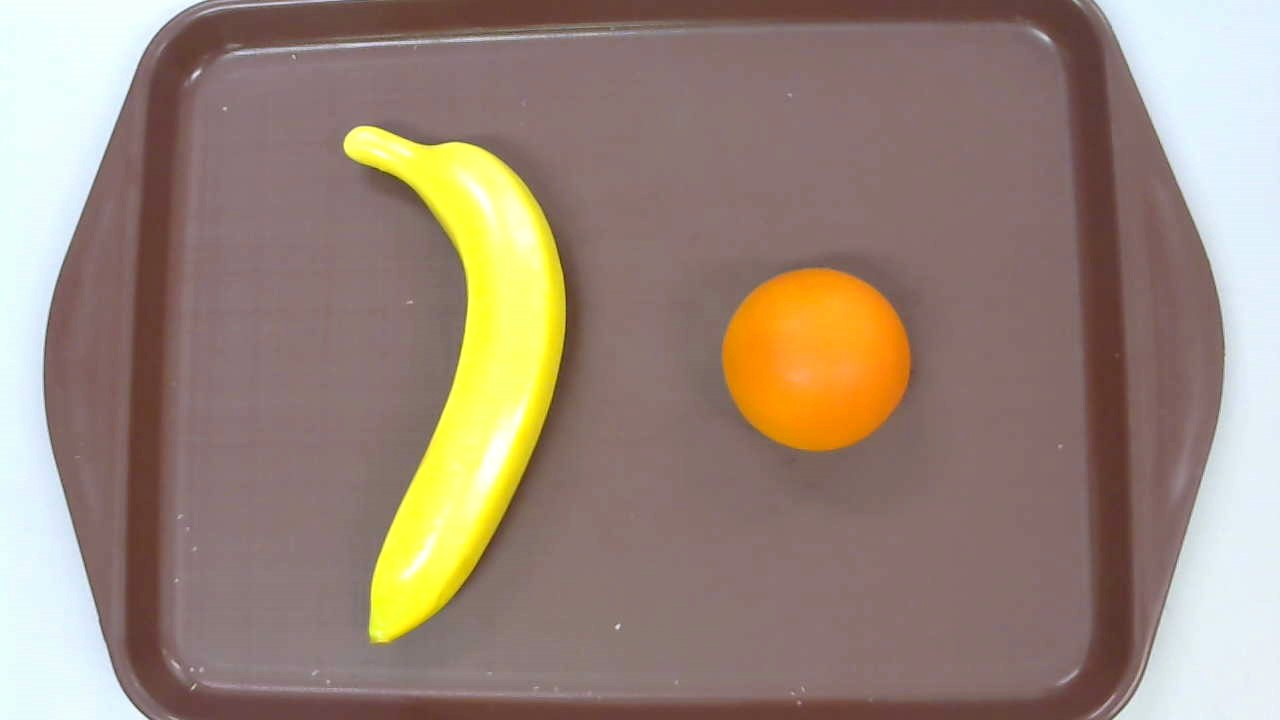banana: (341, 126, 566, 645)
bun: (720, 268, 910, 452)
